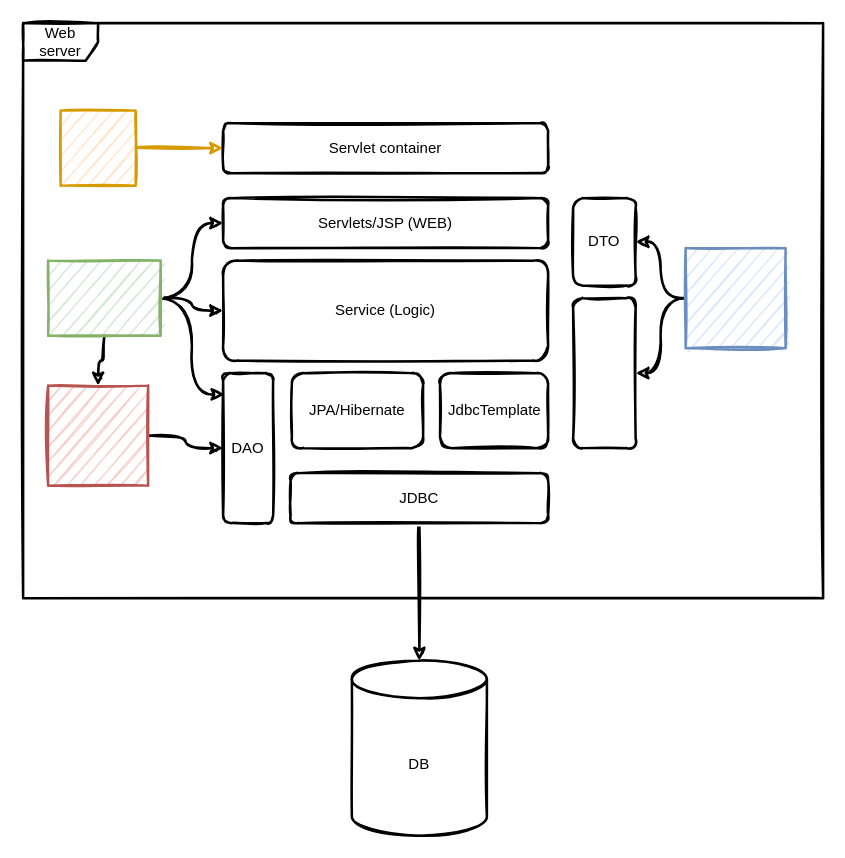
The diagram is 845 pixels wide and 858 high, and some of its shapes have lost their labels. The shapes that lost their labels are listed below. From the top down, each one's centre as x and y in pixels, then its label:
[97,147]: Tomcat Jetty WildFly
[103,297]: Spring
[735,297]: Plain Java
[603,372]: Entity
[97,435]: Hibernate
